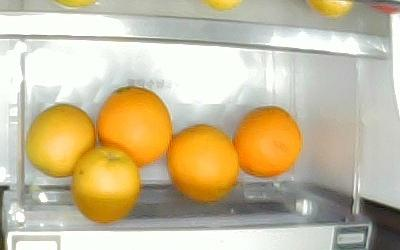orange: (97, 86, 172, 167), (167, 125, 238, 203), (72, 146, 141, 224), (232, 106, 302, 179), (27, 104, 96, 178)
